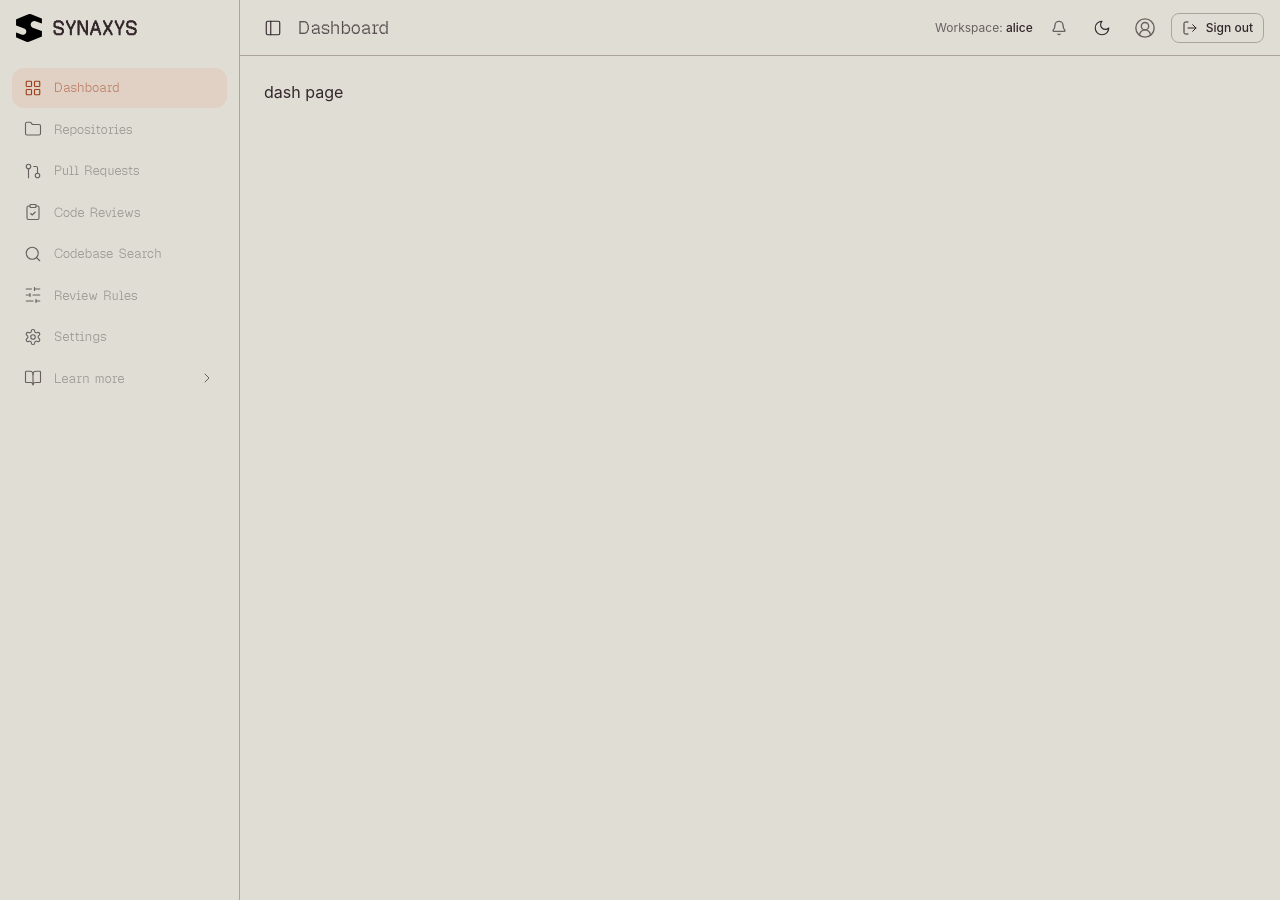
Test: AppLayout — Learn more menu › desktop: the popup stays open while the pointer is over it, and Escape closes it
Expected: the text "alice" is shown, [1006,20,1033,34]
Hover over the button "Learn more": coordinates (120, 378) [12,358,227,398]
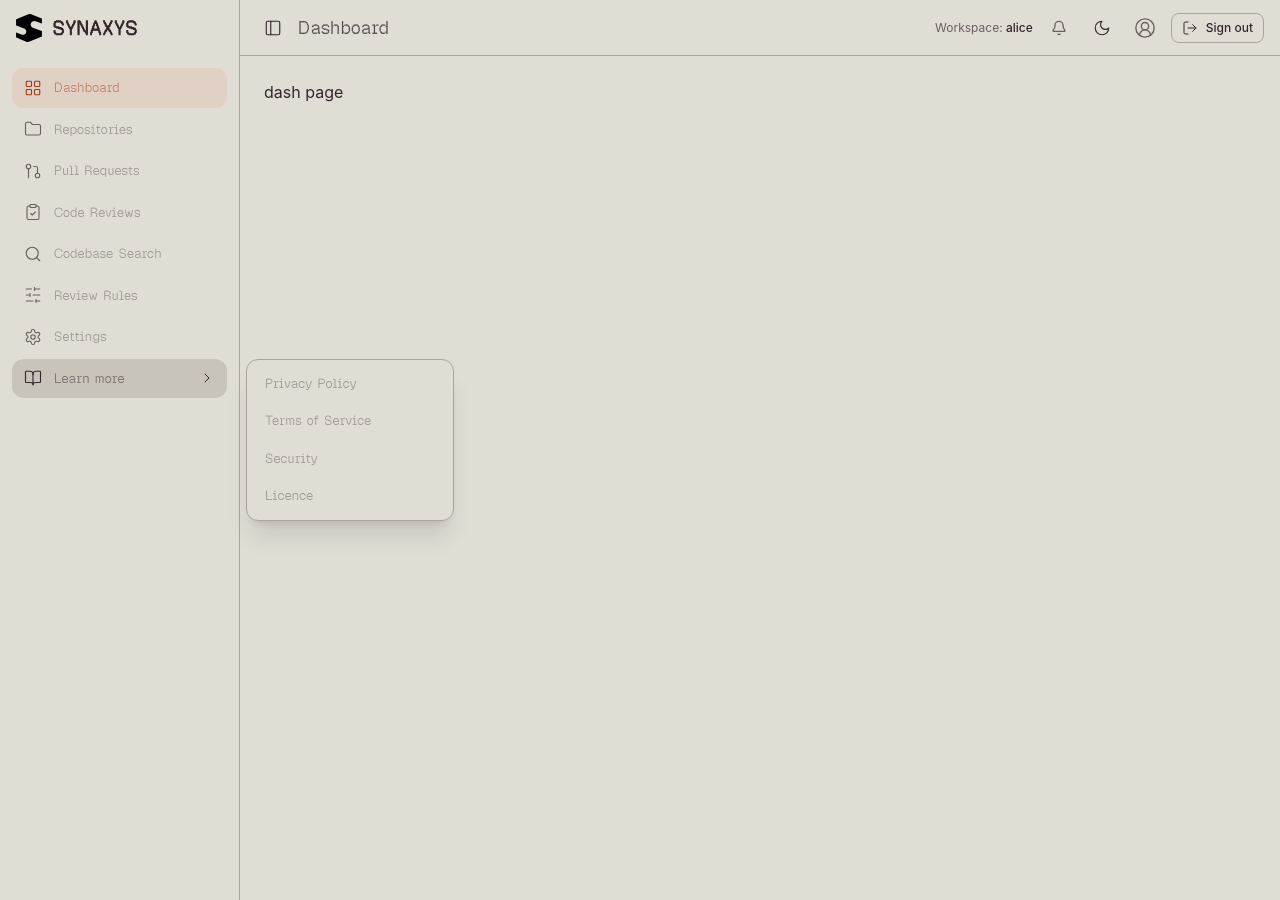
Hover over the link "Terms of Service": coordinates (318, 420) [265,412,371,429]
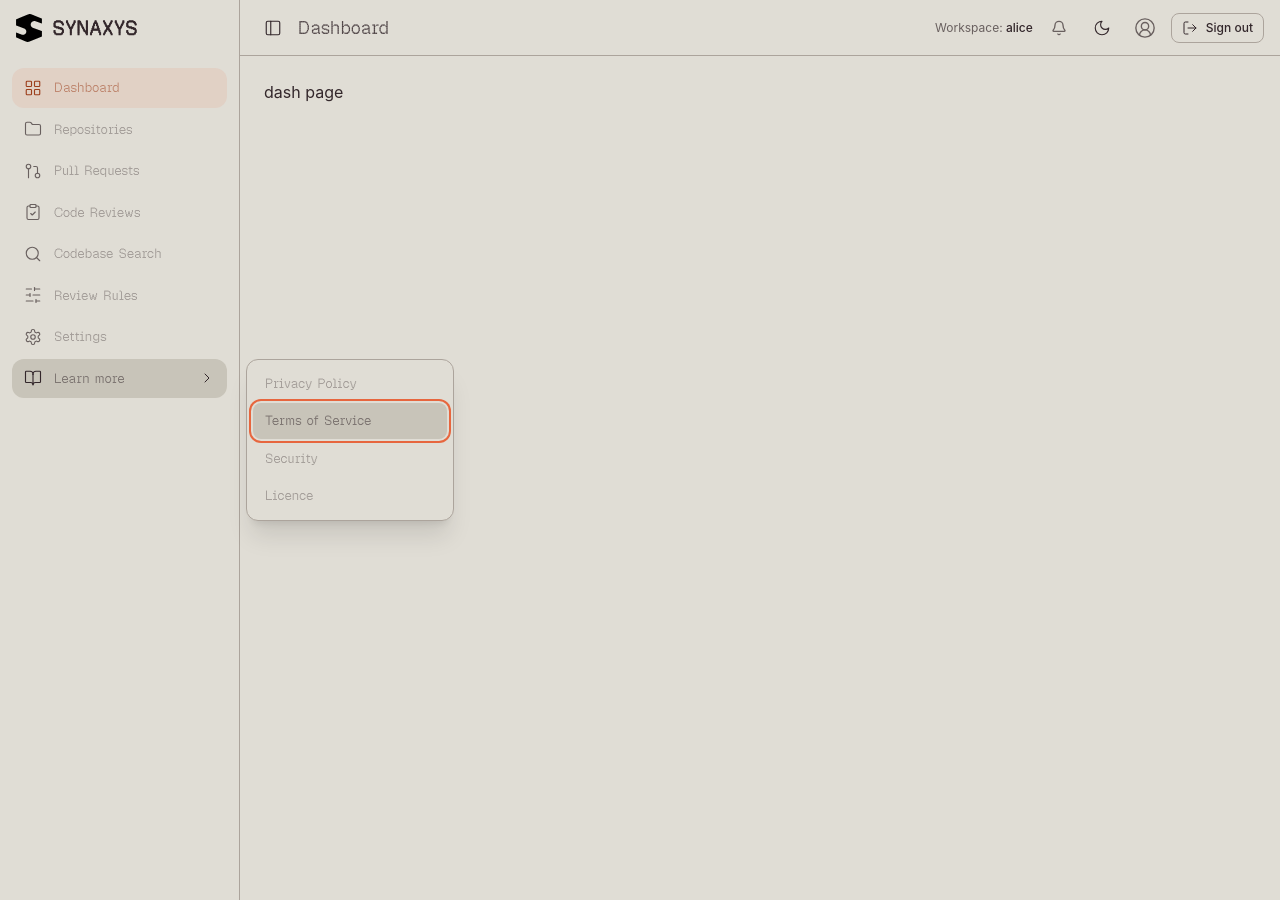
Expected: the link "Terms of Service" is shown, [253,403,447,438]
Press Escape
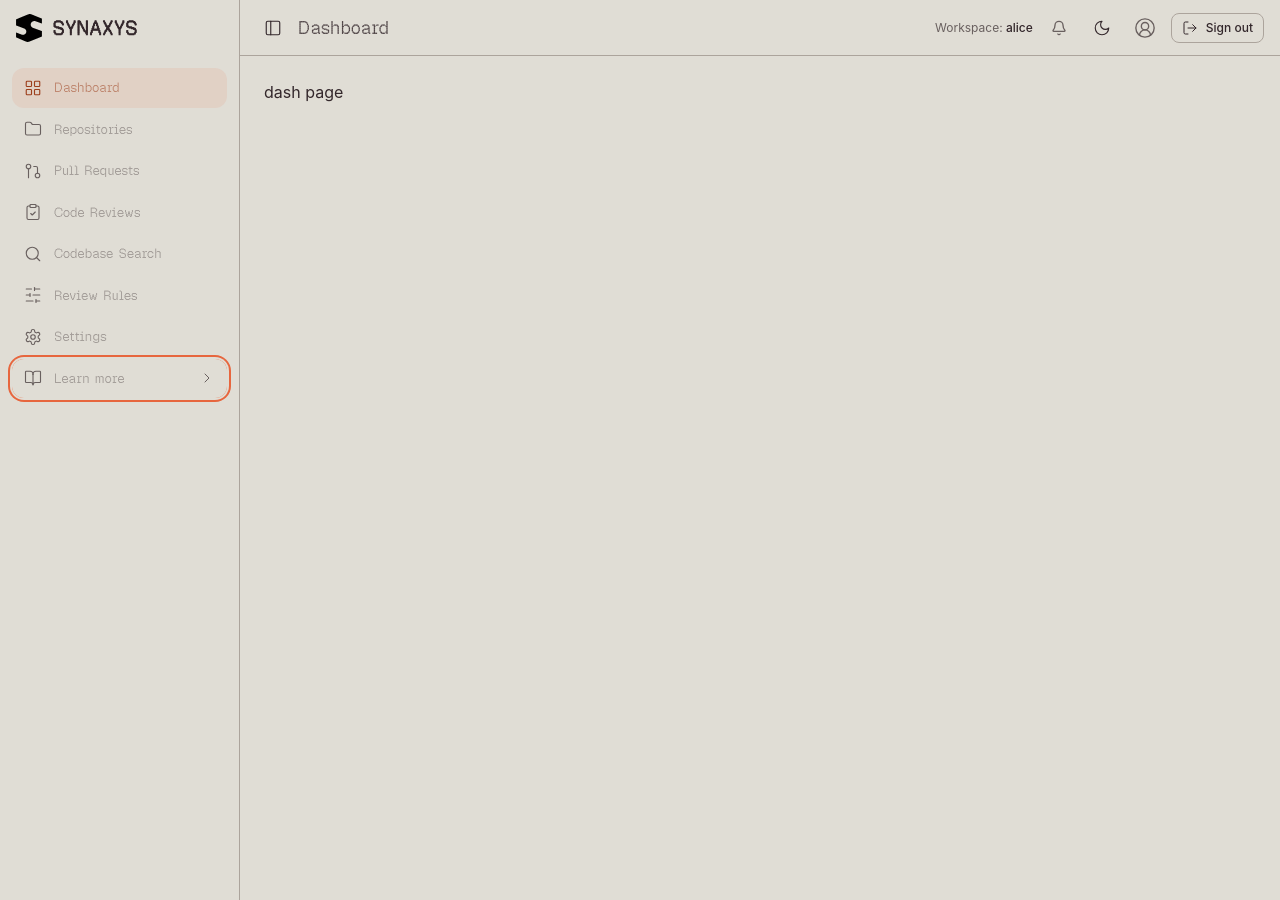
Expected: the link "Terms of Service" is gone
